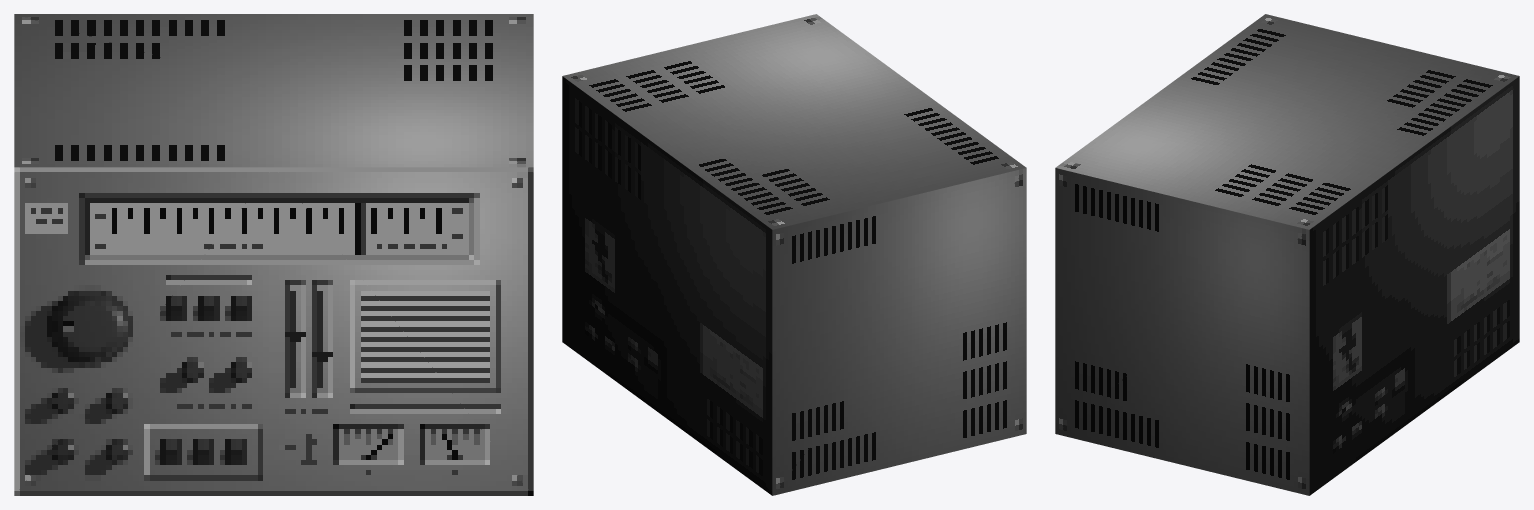
File: radio.glb
3 renders of one model, left to right at view 1: azimuth 30°, elevation 25°; view 2: azimuth 150°, elevation 25°; view 3: azimuth 270°, elevation 25°, orthographic. The views are drawn at different scales.
Parts seen in each view (by area): view 1: Object; view 2: Object; view 3: Object.
Boxes of the visible parts, box(x1,y1,x2,y2) form: Object: box(14, 14, 533, 495); Object: box(562, 14, 1026, 495); Object: box(1055, 14, 1519, 495).
Size of the model in its own units: 0.6926 by 0.3981 by 0.6297.
6 materials, 6 textured.
